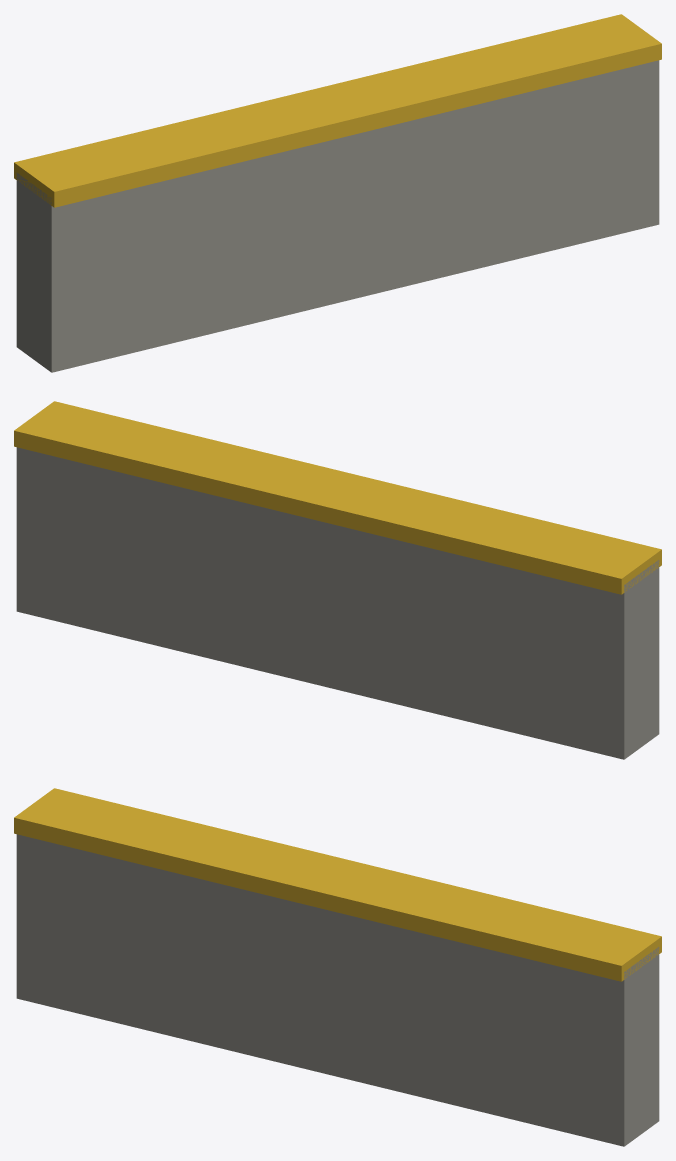
Rendered from cc_top.glb.
3 views of the same model, one above another, from view 1: azimuth 30°, elevation 25°; view 2: azimuth 150°, elevation 25°; view 3: azimuth 330°, elevation 25° (orthographic).
Visible parts, largest first — view 1: city_cc_top; view 2: city_cc_top; view 3: city_cc_top.
Boxes of the visible parts, left/top/right/bottom form: city_cc_top: left=14, top=14, right=661, bottom=372; city_cc_top: left=14, top=401, right=661, bottom=759; city_cc_top: left=14, top=788, right=661, bottom=1146.
Size of the model in its own units: 4 by 1.15 by 0.46.
Materials: 1 (1 with a texture image).
